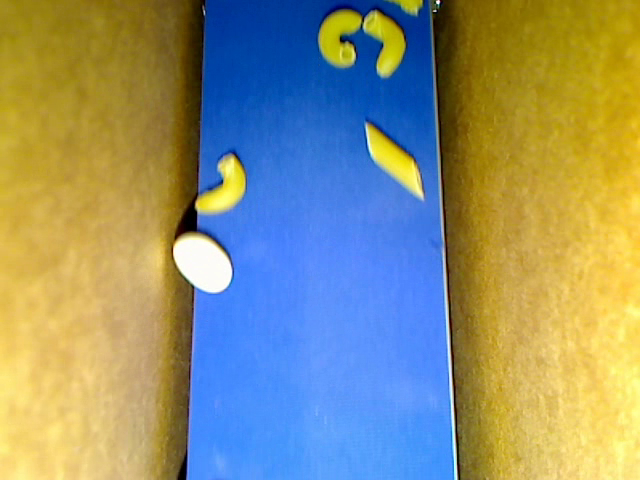elbow: (194, 153, 246, 212), (362, 9, 406, 78), (317, 8, 361, 68)
penne: (364, 120, 424, 200)
